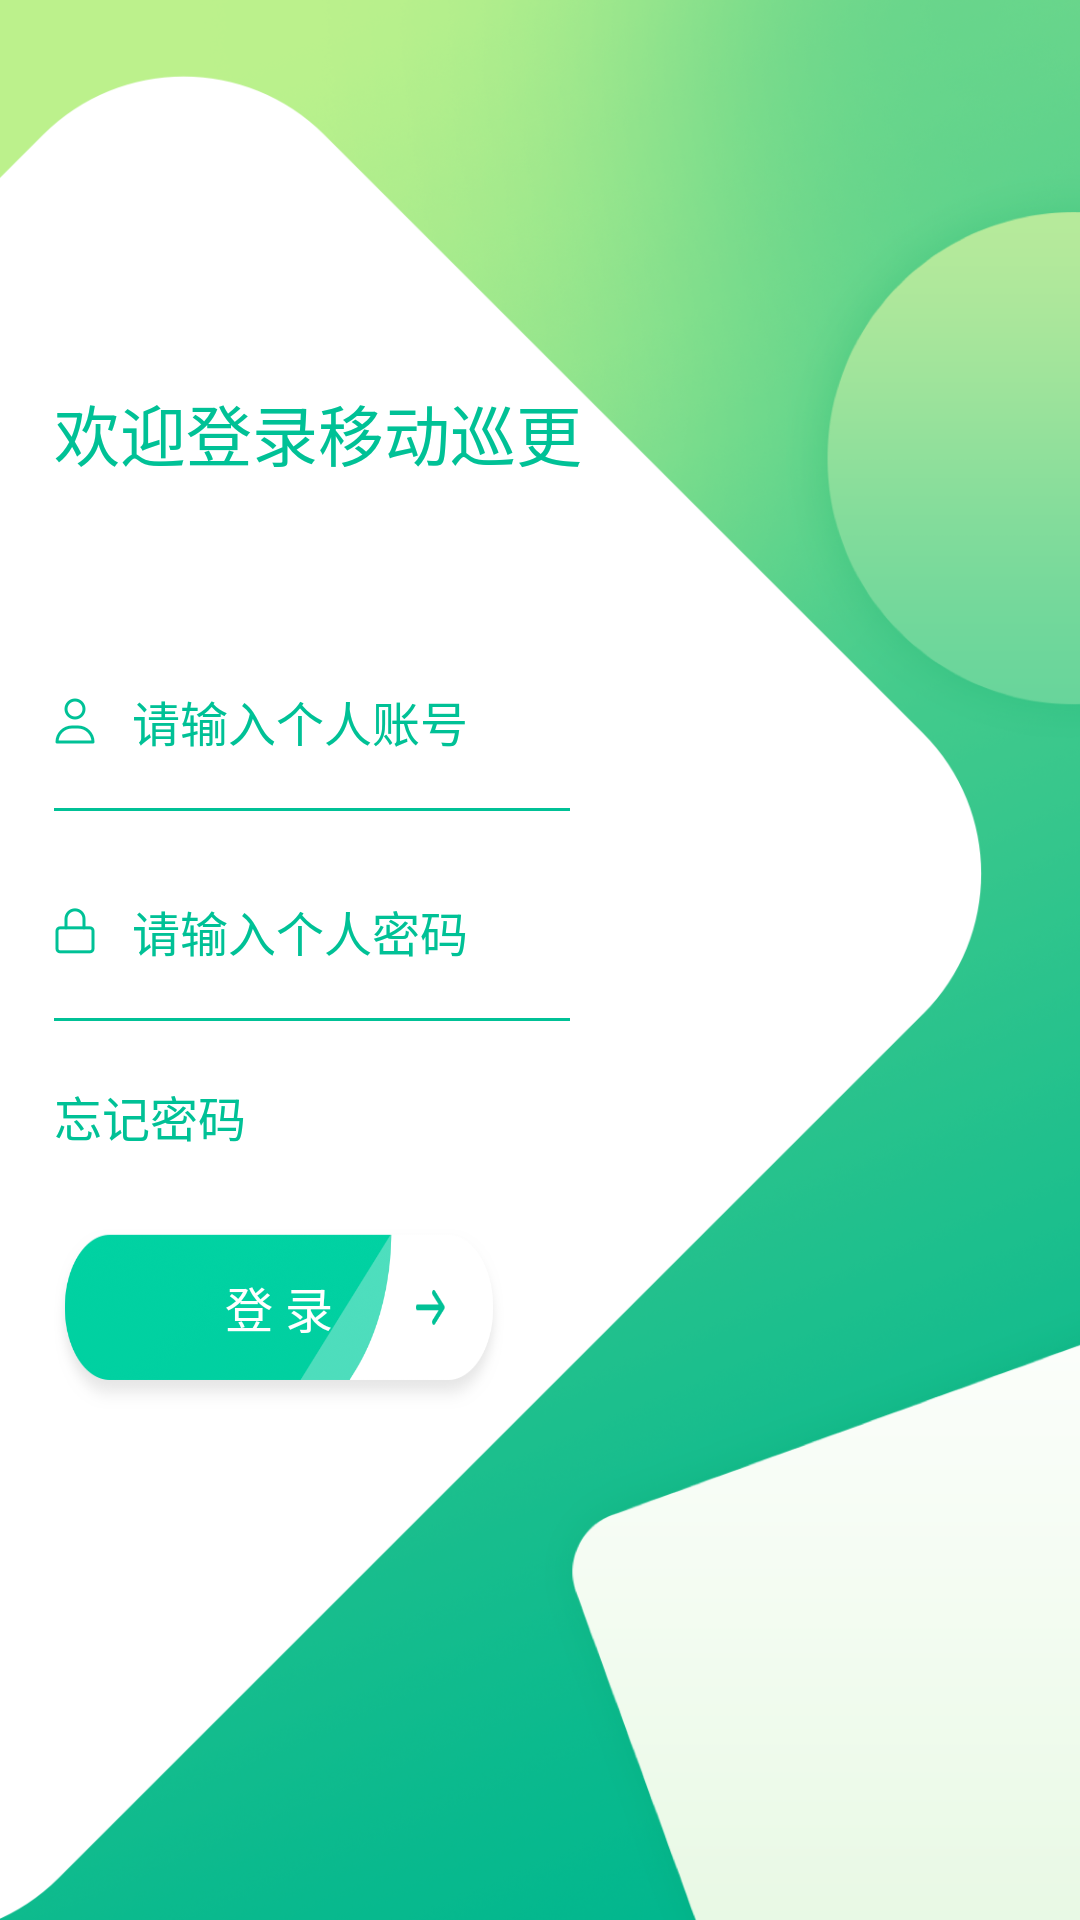

Icons on this 1080px×1920px Android screen, each with its box as box(x1, y1, x2, y2):
user: box(55, 698, 95, 744)
